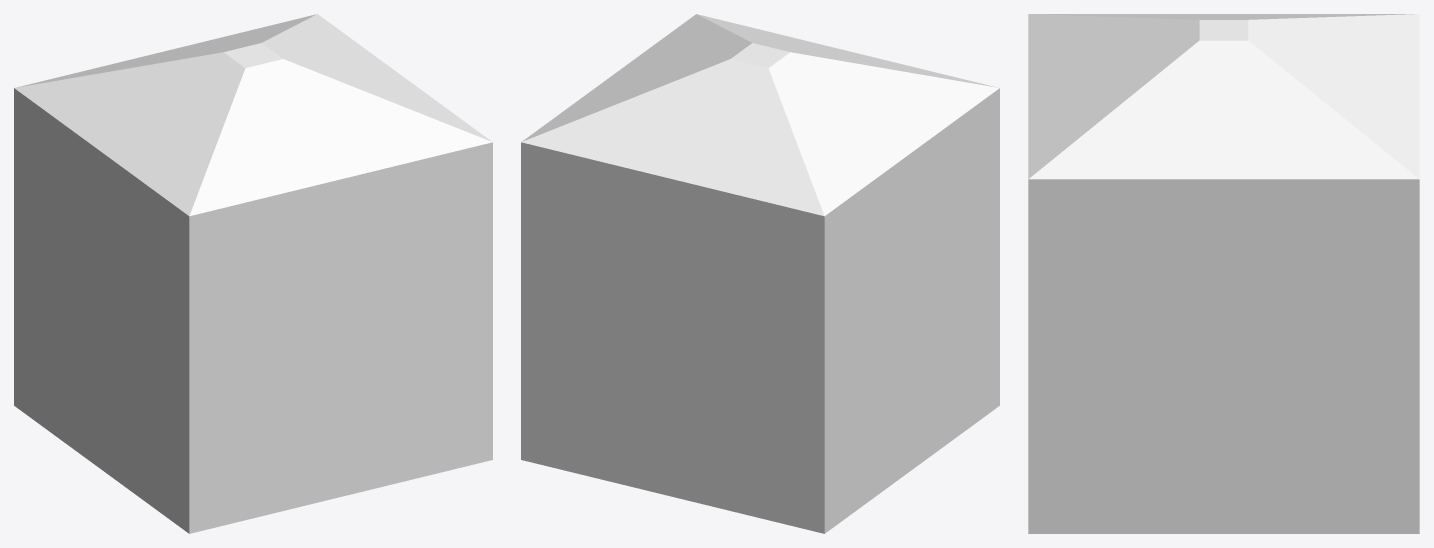
Rendered from example_2.gltf.
3 renders of one model, left to right at view 1: azimuth 30°, elevation 25°; view 2: azimuth 150°, elevation 25°; view 3: azimuth 270°, elevation 25°, orthographic. The views are drawn at different scales.
Visible parts, largest first — view 1: cube; view 2: cube; view 3: cube.
Part boxes in pixels (x1,y1,x2,y2): cube: (14, 14, 492, 533); cube: (521, 14, 999, 533); cube: (1028, 14, 1419, 533).
Bounding box in the file's own units: 1 × 1.19 × 1.
1 material, 1 textured.
